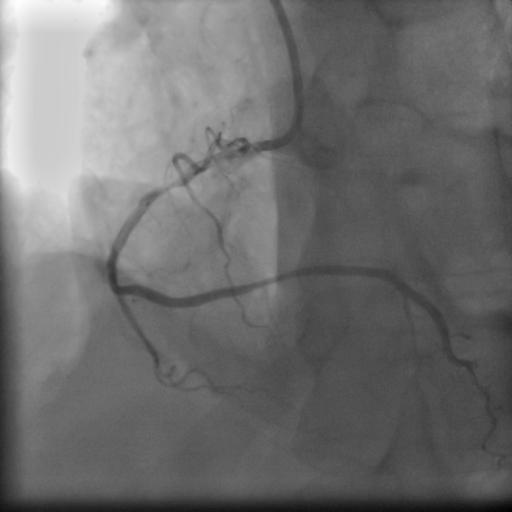Stenosis: (147, 177, 182, 196)
